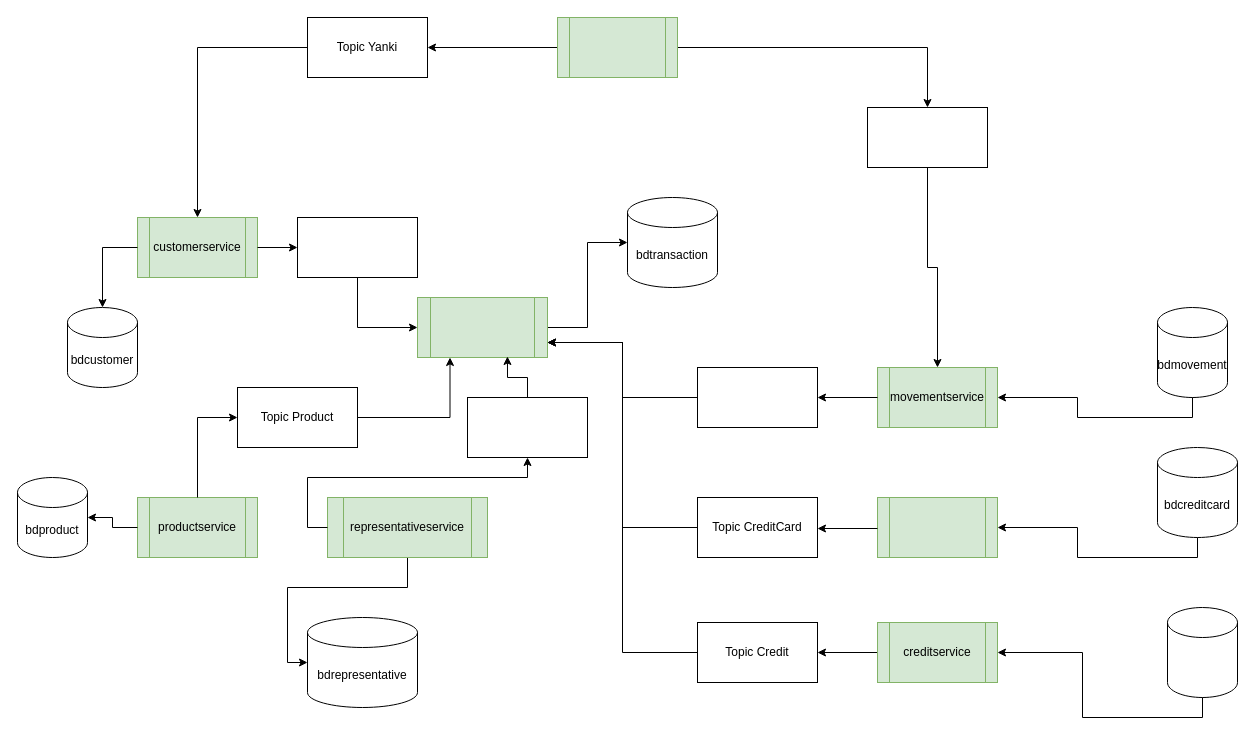
The diagram is 1255 pixels wide and 743 high, and some of its shapes have lost their labels. Each missing label, with the box of its shape:
bdcredit: (1166, 606, 1238, 698)
creditcardservice: (876, 496, 998, 558)
Topic Customer: (296, 216, 418, 278)
Topic Movement: (696, 366, 818, 428)
Topic Representative: (466, 396, 588, 458)
Topic Yanki Movement: (866, 106, 988, 168)
transactionservice: (416, 296, 548, 358)
yankiservice: (556, 16, 678, 78)
